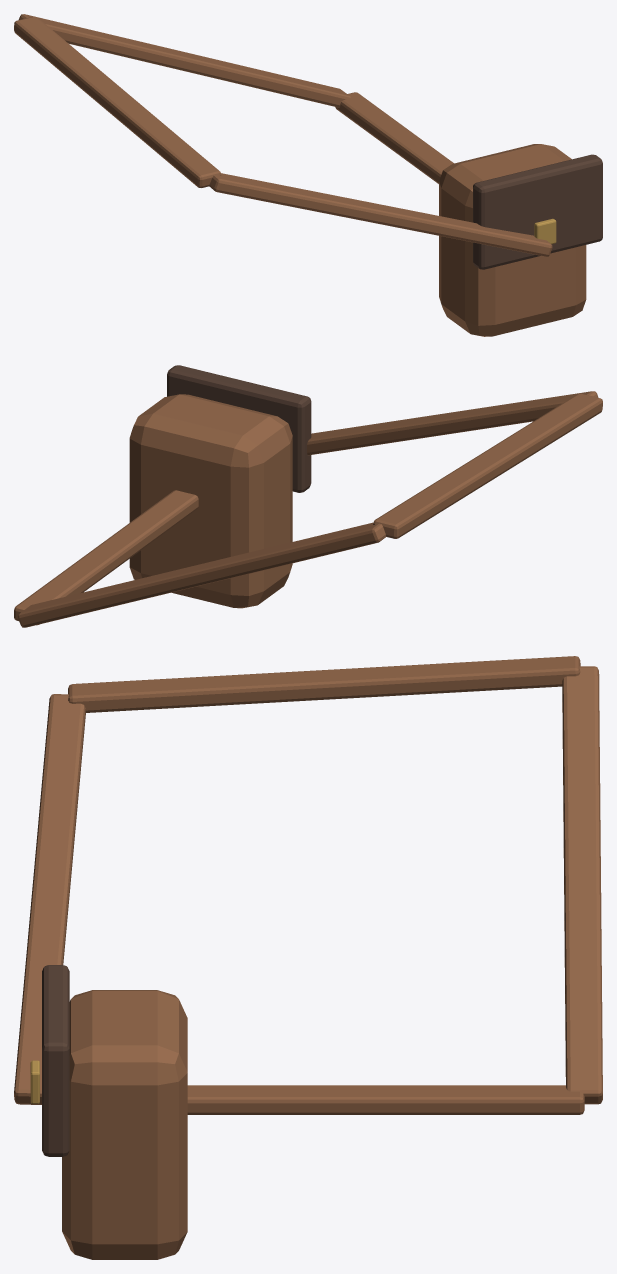
The model's file is bag_crossbody_leather.glb.
3 views of the same model, one above another, from view 1: azimuth 30°, elevation 25°; view 2: azimuth 150°, elevation 25°; view 3: azimuth 270°, elevation 25° (orthographic). The views are drawn at different scales.
Parts seen in each view (by area): view 1: bag_crossbody_leather; view 2: bag_crossbody_leather; view 3: bag_crossbody_leather.
Boxes of the visible parts, bbox=[...] form: bag_crossbody_leather: bbox=[14, 14, 602, 336]; bag_crossbody_leather: bbox=[14, 365, 602, 627]; bag_crossbody_leather: bbox=[14, 656, 602, 1259].
Bounding box in the file's own units: 0.7985 × 0.4971 × 0.7497.
